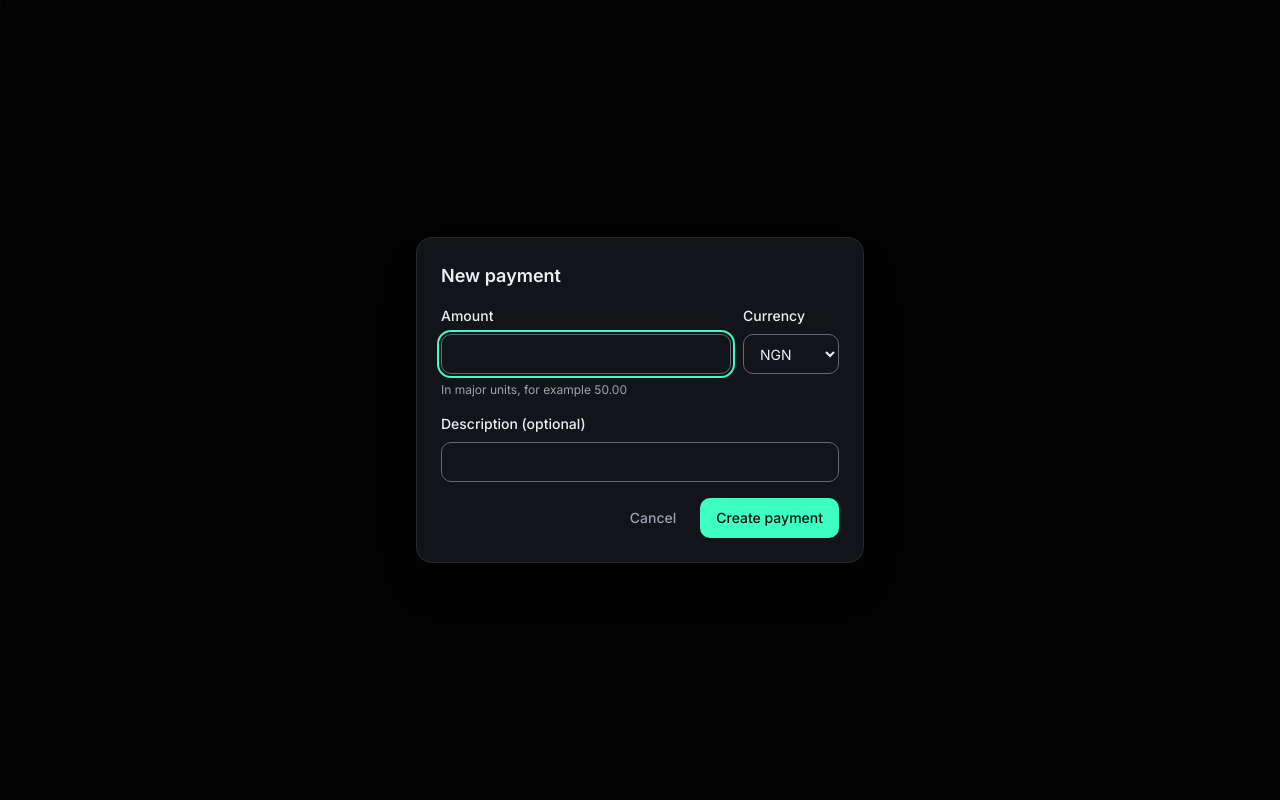
CreatePaymentModal › shows backend field errors under the matching inputs and keeps the modal open
Type "5" into the field labelled "Amount" at (586,354), box [441,334,731,374]
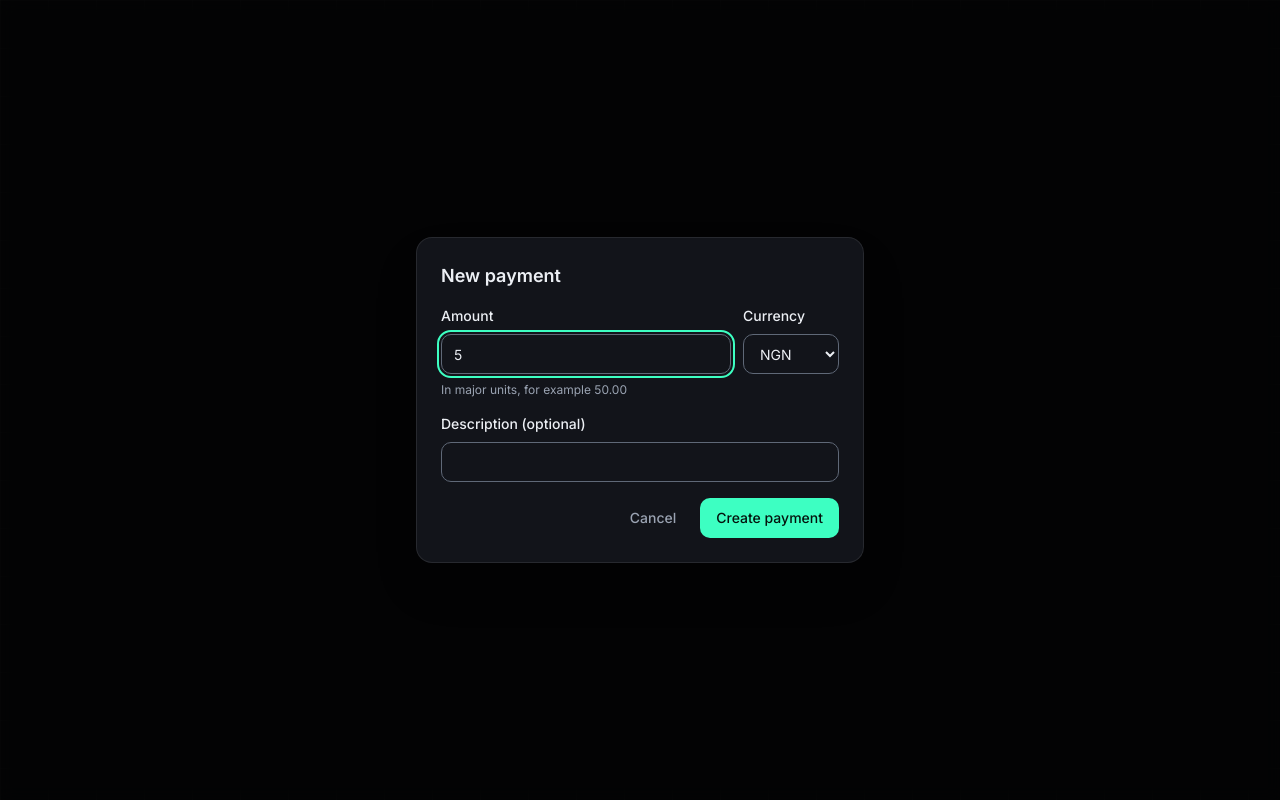
Click the button "Create payment" at (770,518), box [700,498,839,538]
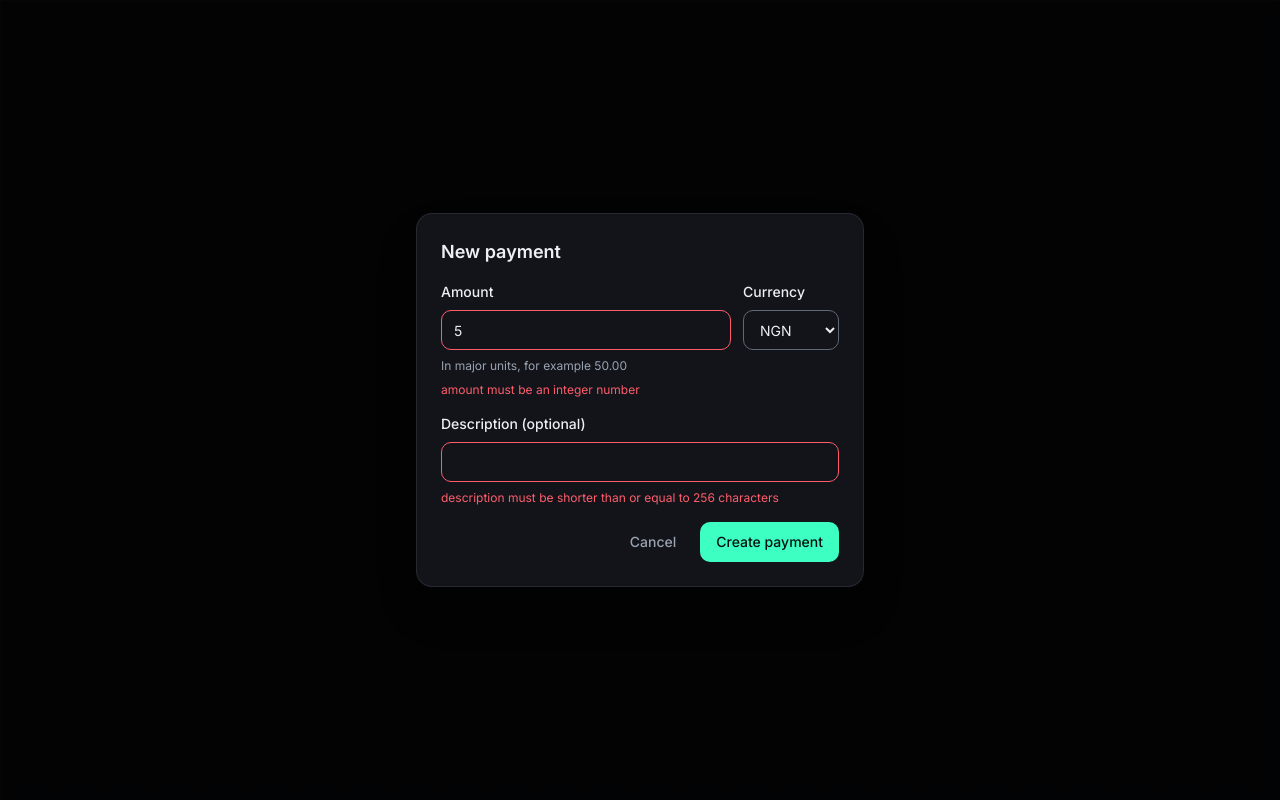
Expected: the dialog is shown, [416,213,864,587]
Expected: the text "description must be shorter than or equal to 256 characters" is shown, [441,490,779,505]
